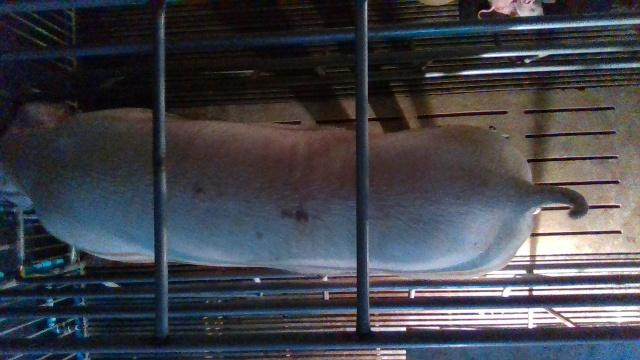sow-stand-feed: (0, 101, 589, 279)
